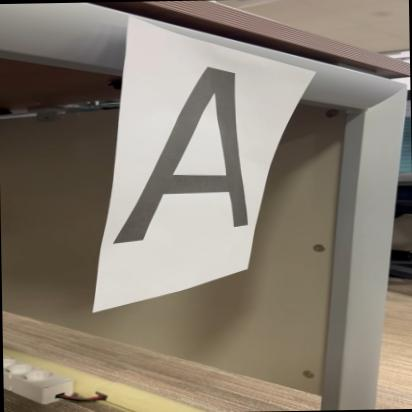seat: (104, 54, 250, 246)
